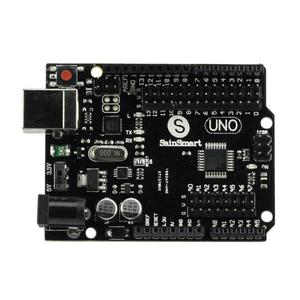duino: (21, 43, 278, 254)
